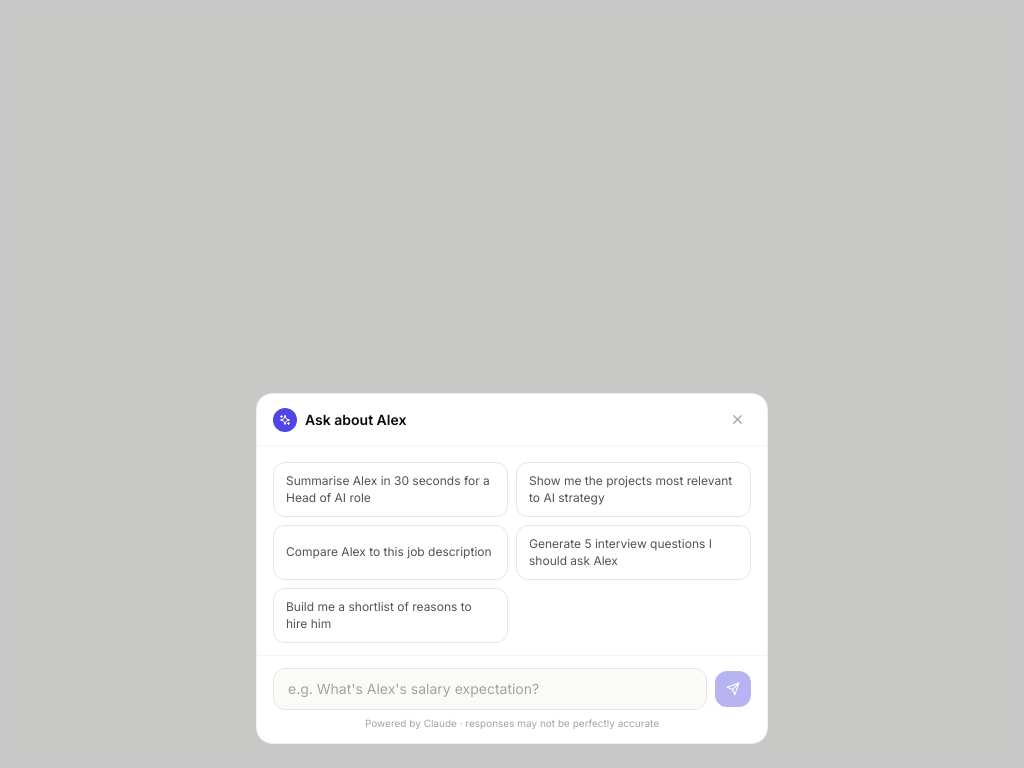
Test: QAOverlay › typing and submitting a message sends it and shows loading
The width and height of the screenshot is (1024, 768).
Type "What are Alex's skills?" into the field with placeholder "e.g. What's Alex's salary expectation?" at point(490, 689), box left=273, top=668, right=707, bottom=710
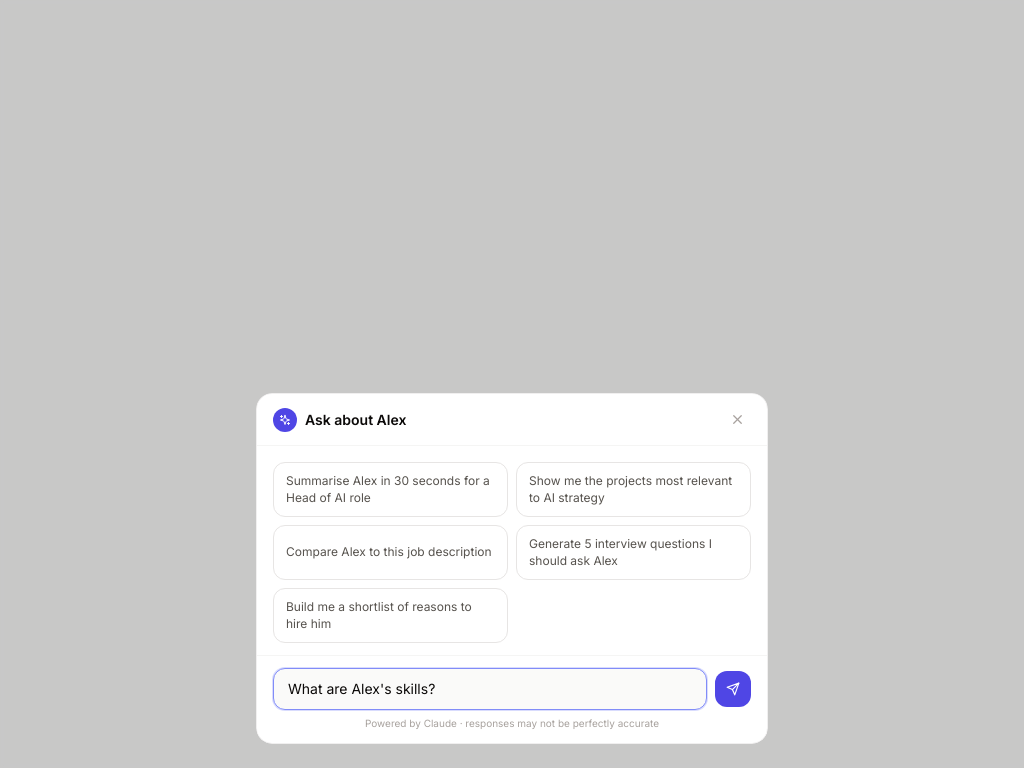
Click the 7th button at point(733, 689), box left=715, top=671, right=751, bottom=707
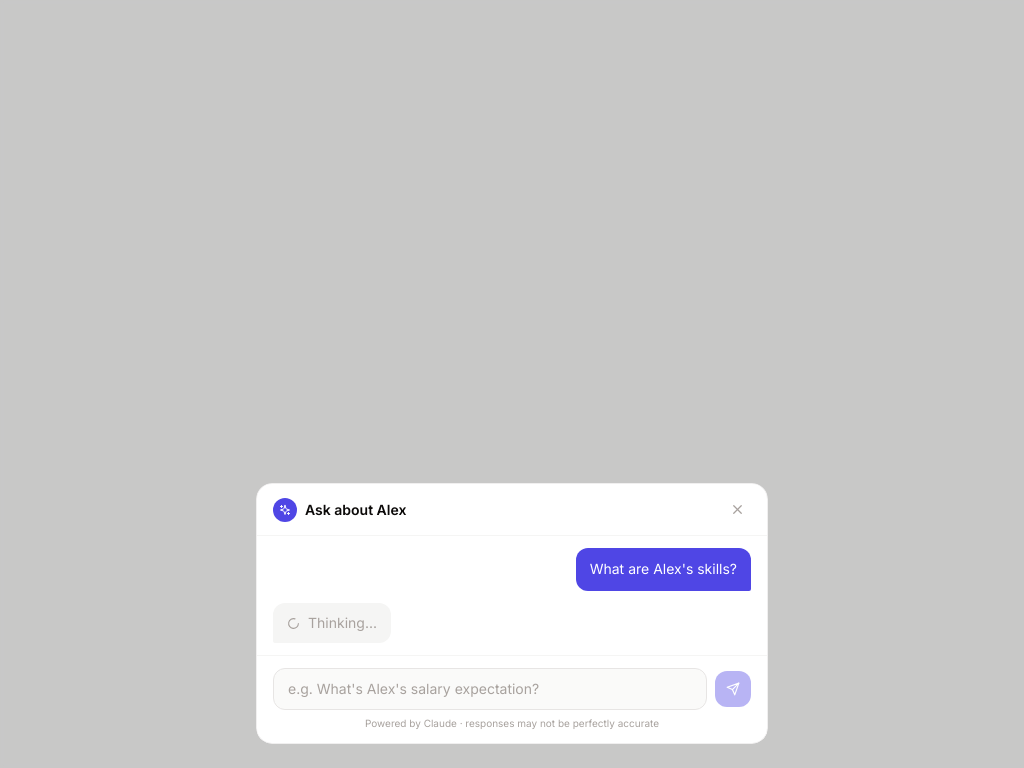
Result: the text "What are Alex's skills?" is shown at left=576, top=548, right=751, bottom=591
Result: the text "Thinking..." is shown at left=308, top=613, right=377, bottom=633
